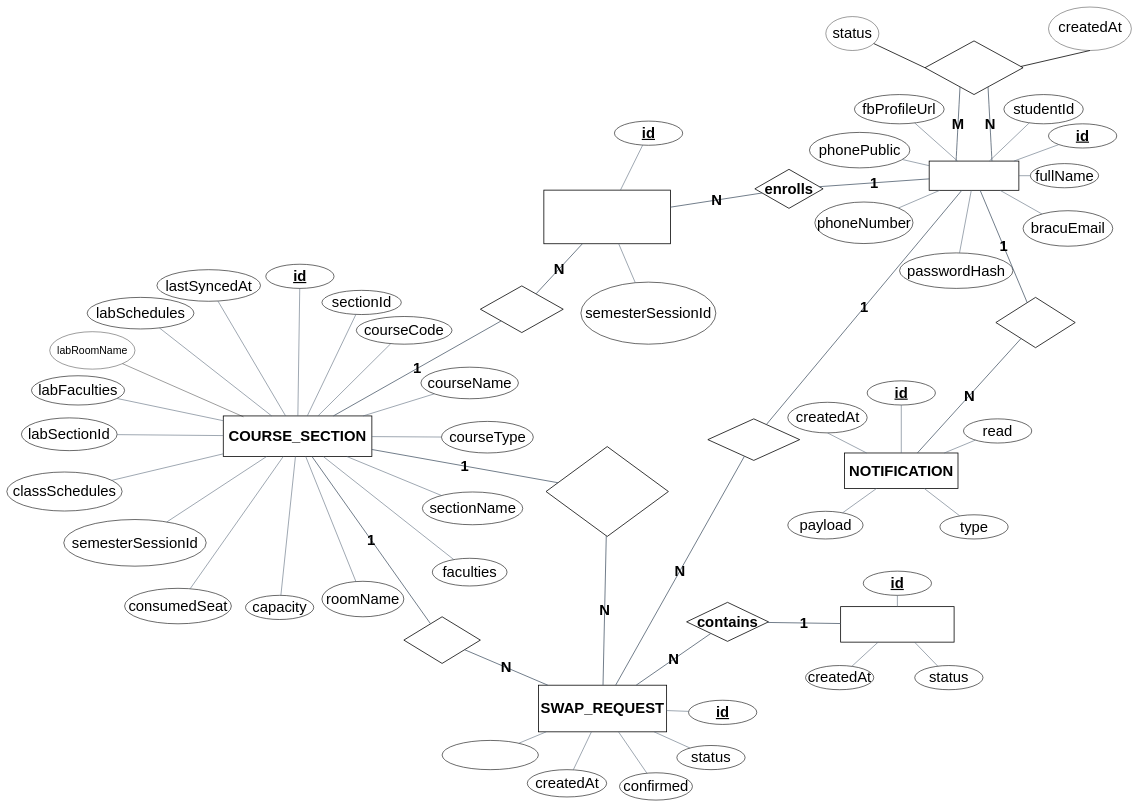
Image size: 1138x807. Some labels were removed from this diagram. Each missing label, with the box of its shape:
ENROLLMENT: (543, 190, 671, 244)
friendship: (924, 40, 1023, 95)
held_in: (480, 285, 563, 333)
receives: (995, 297, 1075, 348)
requests: (707, 418, 800, 461)
respondedAt: (442, 740, 539, 770)
sits_in: (403, 616, 481, 664)
SWAP_GROUP: (840, 606, 954, 642)
USER: (929, 160, 1019, 191)
wants_section: (545, 446, 669, 537)
